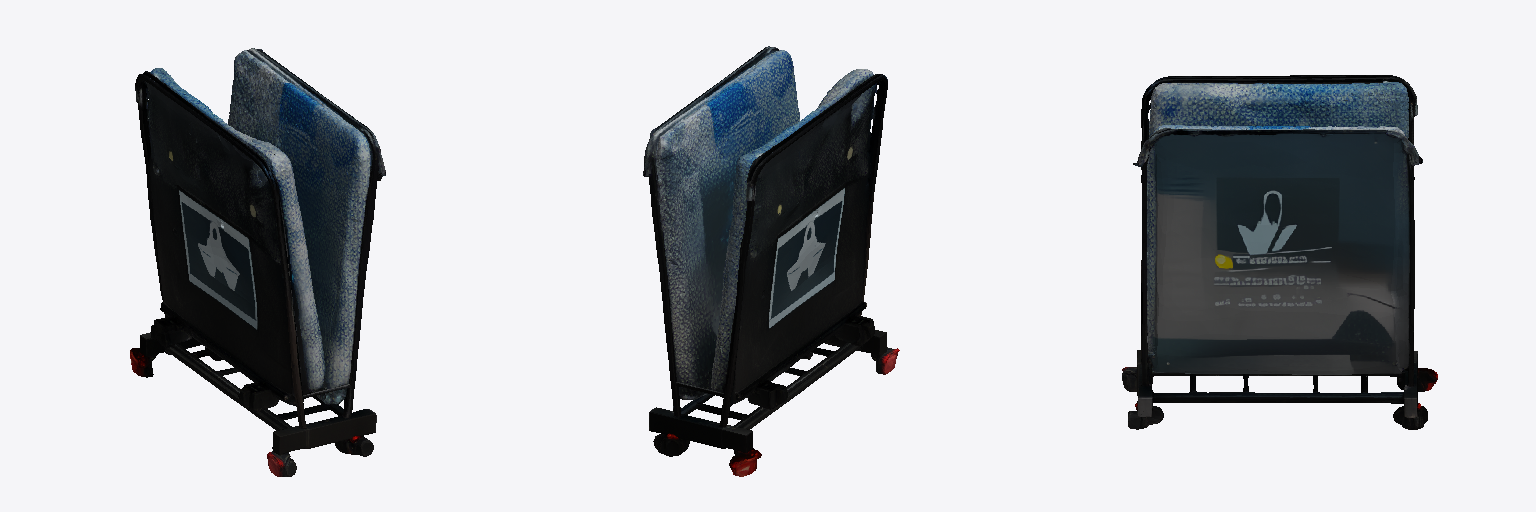
3 renders of one model, left to right at view 1: azimuth 30°, elevation 25°; view 2: azimuth 150°, elevation 25°; view 3: azimuth 270°, elevation 25°, orthographic.
Visible parts, largest first — view 1: geometry_0; view 2: geometry_0; view 3: geometry_0.
Part boxes in pixels (bbox=[...]): geometry_0: bbox=[130, 48, 385, 476]; geometry_0: bbox=[643, 46, 899, 476]; geometry_0: bbox=[1122, 75, 1437, 429].
Bounding box in the file's own units: 0.4109 × 0.9995 × 0.9299.
1 materials, 1 textured.